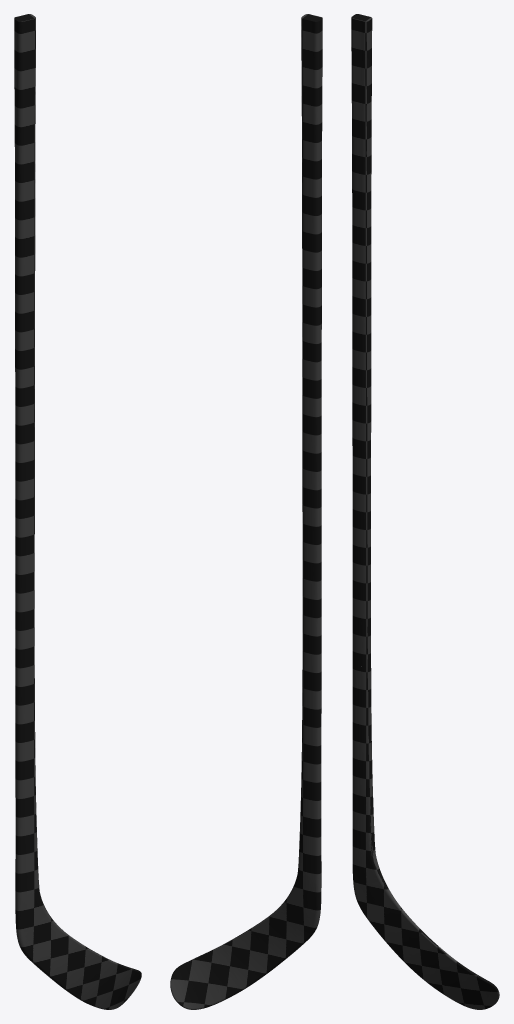
Rendered from P90TM-SBO.glb.
3 views of the same model, side by side, from view 1: azimuth 30°, elevation 25°; view 2: azimuth 150°, elevation 25°; view 3: azimuth 330°, elevation 25° (orthographic). The views are drawn at different scales.
Parts seen in each view (by area): view 1: geometry_0; view 2: geometry_0; view 3: geometry_0.
Part boxes in pixels (left/top/right/bottom): geometry_0: left=14, top=14, right=141, bottom=1009; geometry_0: left=170, top=14, right=322, bottom=1009; geometry_0: left=351, top=14, right=499, bottom=1009.
Bounding box in the file's own units: 233 × 1650 × 62.22.
Materials: 1 (1 with a texture image).
